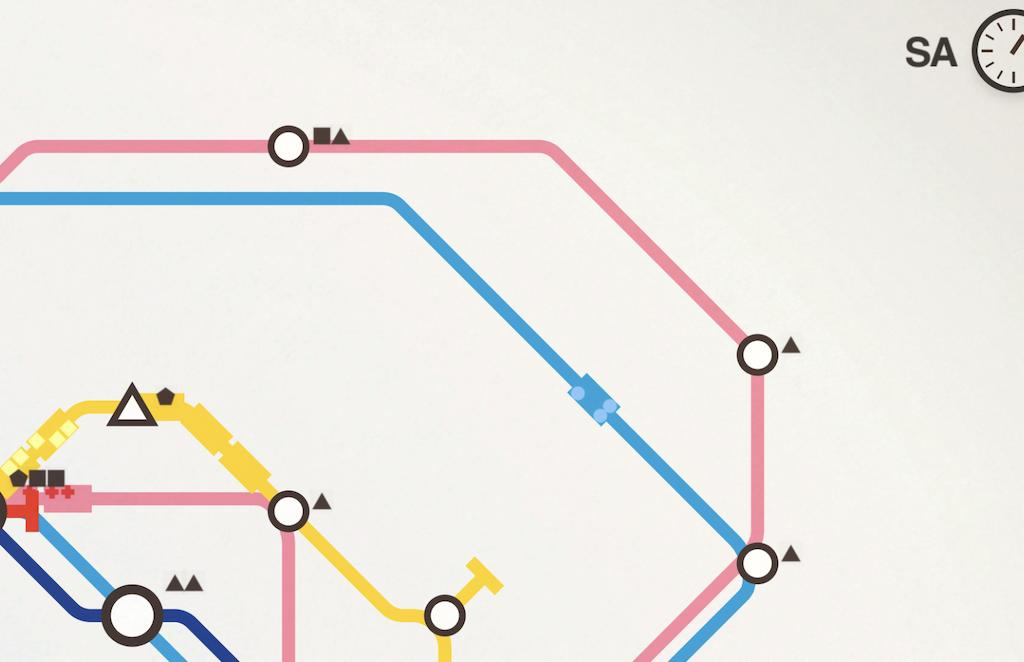connected_station: (89, 573, 177, 660), (714, 527, 786, 598), (728, 324, 797, 384), (103, 373, 162, 439), (259, 477, 320, 540), (412, 588, 479, 645), (257, 117, 317, 178), (0, 166, 14, 236)
line_endpoint: (457, 535, 508, 600), (10, 484, 57, 540)
train: (151, 384, 277, 493), (550, 358, 644, 441), (0, 393, 72, 477), (27, 481, 105, 532), (0, 436, 12, 494)
